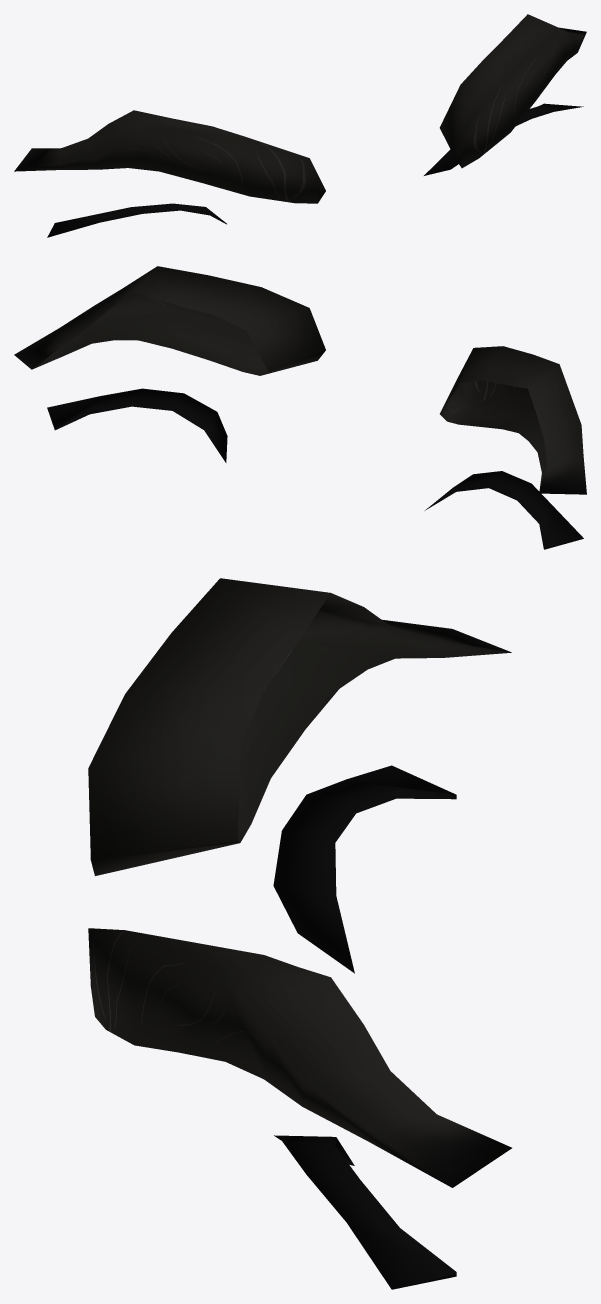
File: brous4.fbx
3 renders of one model, top to bottom at view 1: azimuth 30°, elevation 25°; view 2: azimuth 150°, elevation 25°; view 3: azimuth 270°, elevation 25°, orthographic. The views are drawn at different scales.
Parts seen in each view (by area): view 1: brous4; view 2: brous4; view 3: brous4.
Boxes of the visible parts, <box> form: brous4: <box>14,14,586,237</box>; brous4: <box>14,266,586,549</box>; brous4: <box>88,578,511,1289</box>.
Size of the model in its own units: 11.51 by 2.84 by 3.69.
